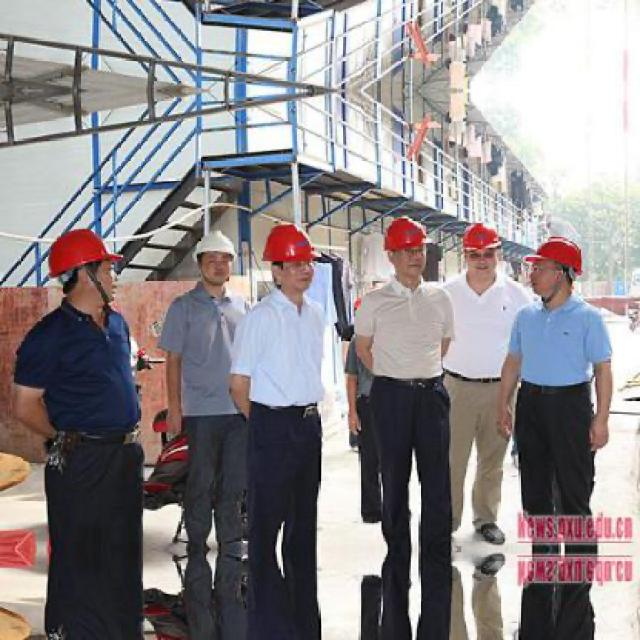helmet: (42, 223, 120, 308), (523, 226, 589, 300), (262, 225, 318, 297), (380, 217, 432, 280), (457, 217, 503, 281), (192, 226, 238, 286)
